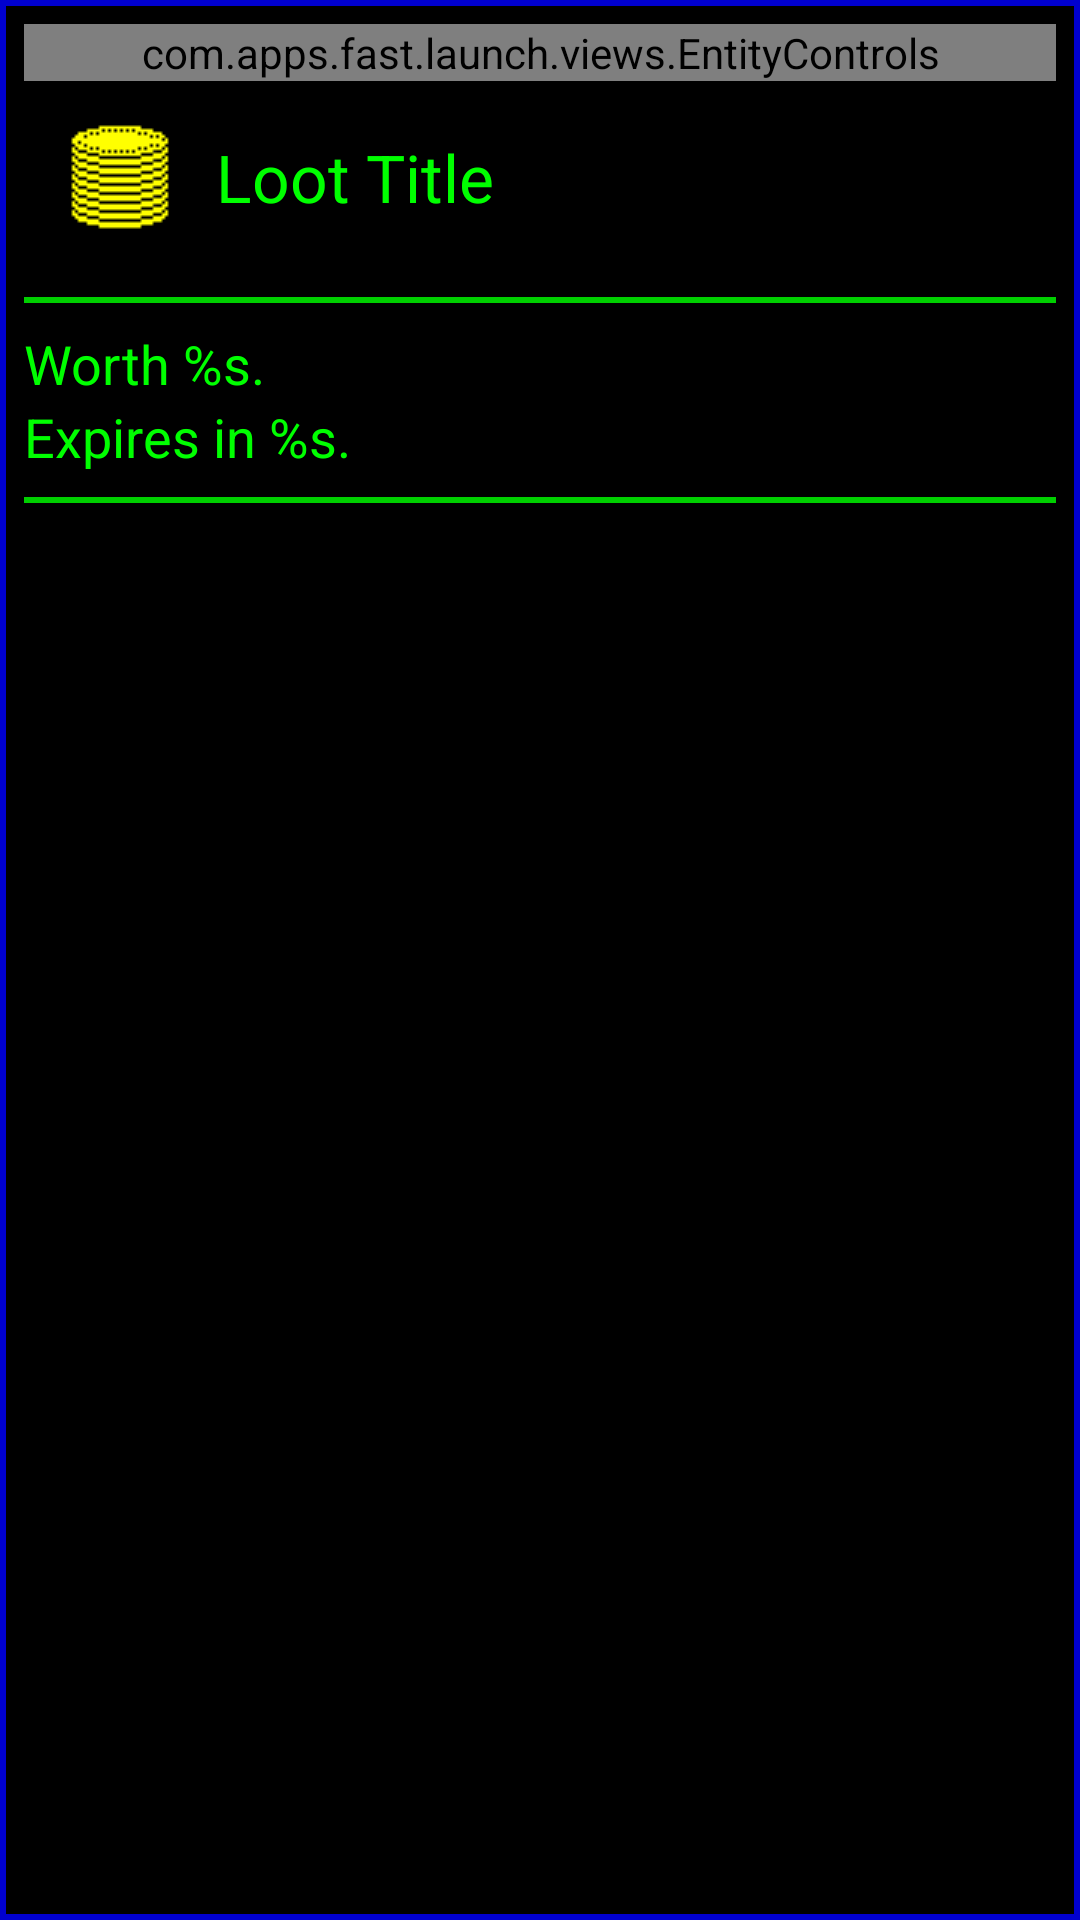

Icons on this 1080px x 1920px Android screen, each with its box as bbox(x1, y1, x2, y2):
marker loot: bbox(71, 125, 169, 229)
